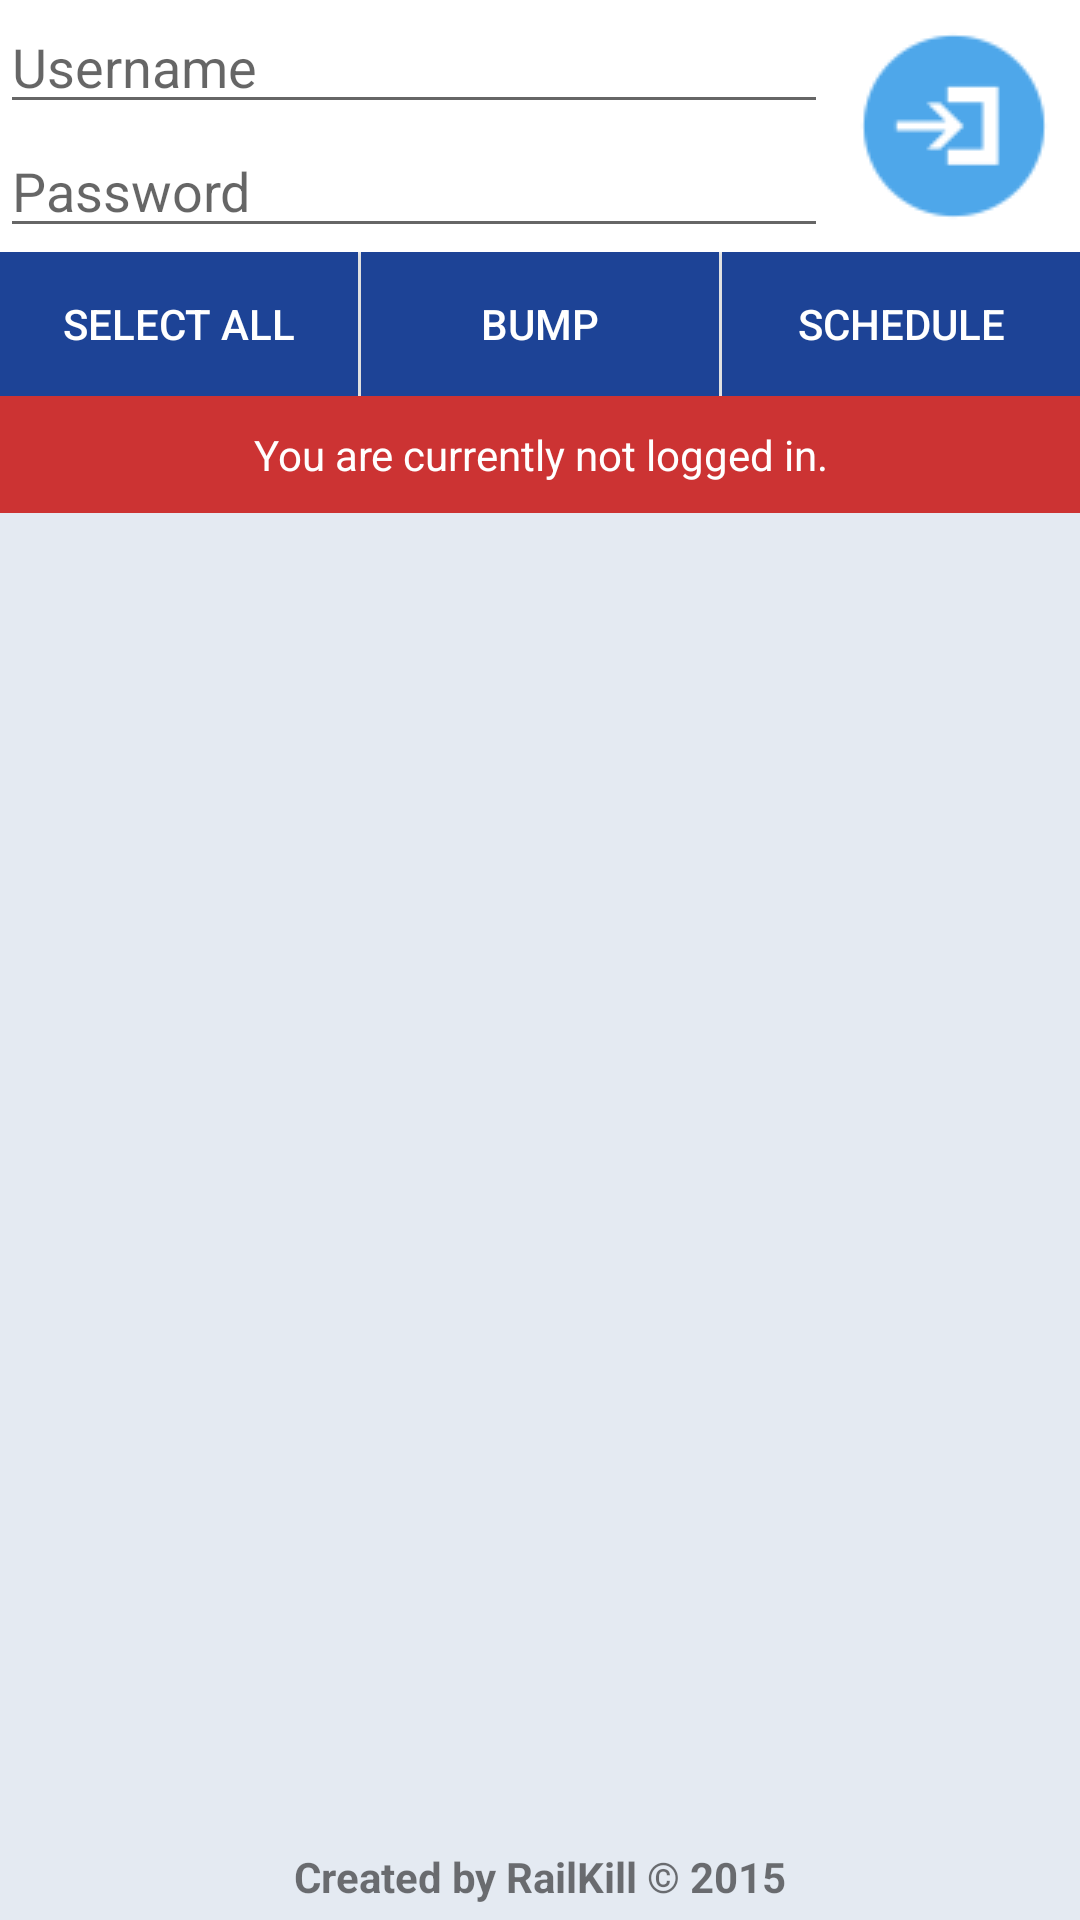

Icons on this 1080px×1920px Android screen, each with its box as {"left": x1, "top": y1, "right": x2, "bottom": y2}:
Login to Lowyat Forums: {"left": 863, "top": 35, "right": 1045, "bottom": 217}
